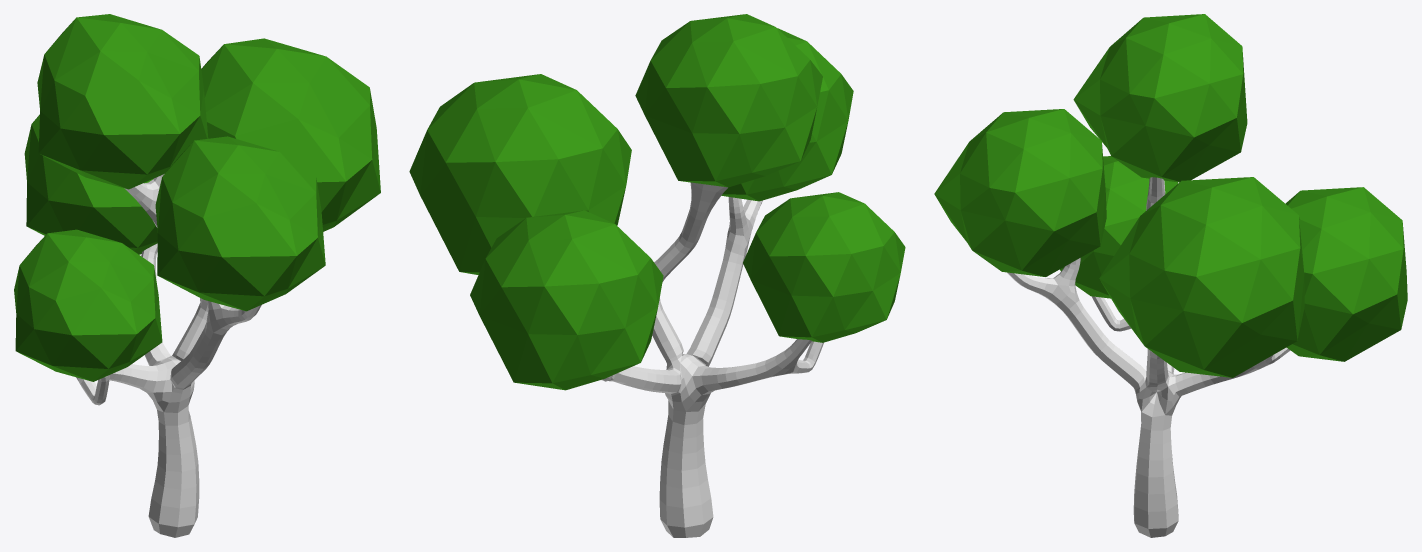
File: TreeType1.fbx
The picture shows the model from 3 angles, left to right: view 1: azimuth 30°, elevation 25°; view 2: azimuth 150°, elevation 25°; view 3: azimuth 270°, elevation 25°; orthographic projection. The views are drawn at different scales.
Visible parts, largest first — view 1: Leaves, Tree; view 2: Leaves, Tree; view 3: Leaves, Tree.
Boxes of the visible parts, x1,y1,x2,y2 form: Leaves: (14, 14, 380, 381); Tree: (76, 174, 261, 537); Leaves: (409, 14, 905, 390); Tree: (601, 182, 823, 537); Leaves: (934, 14, 1407, 377); Tree: (1007, 177, 1290, 537).
Size of the model in its own units: 565 by 703 by 615.
